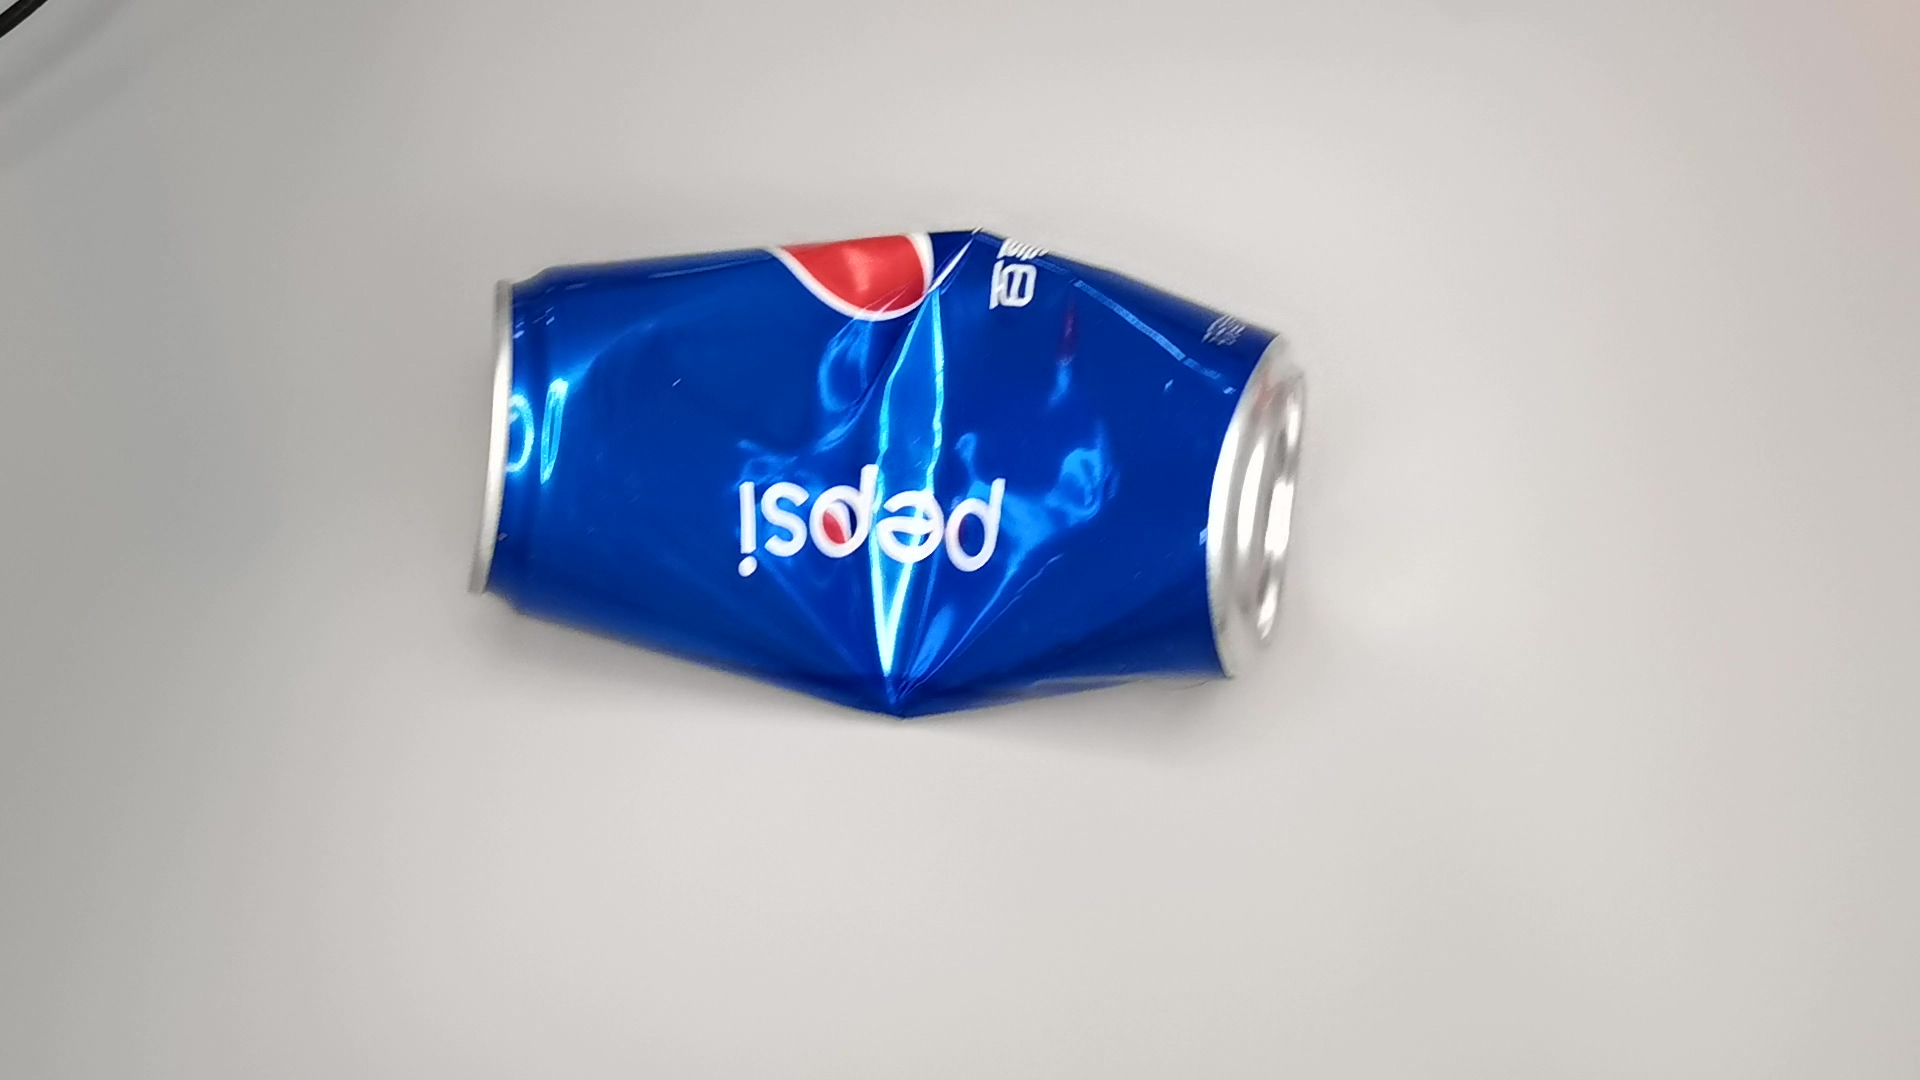can: (440, 225, 1335, 731)
